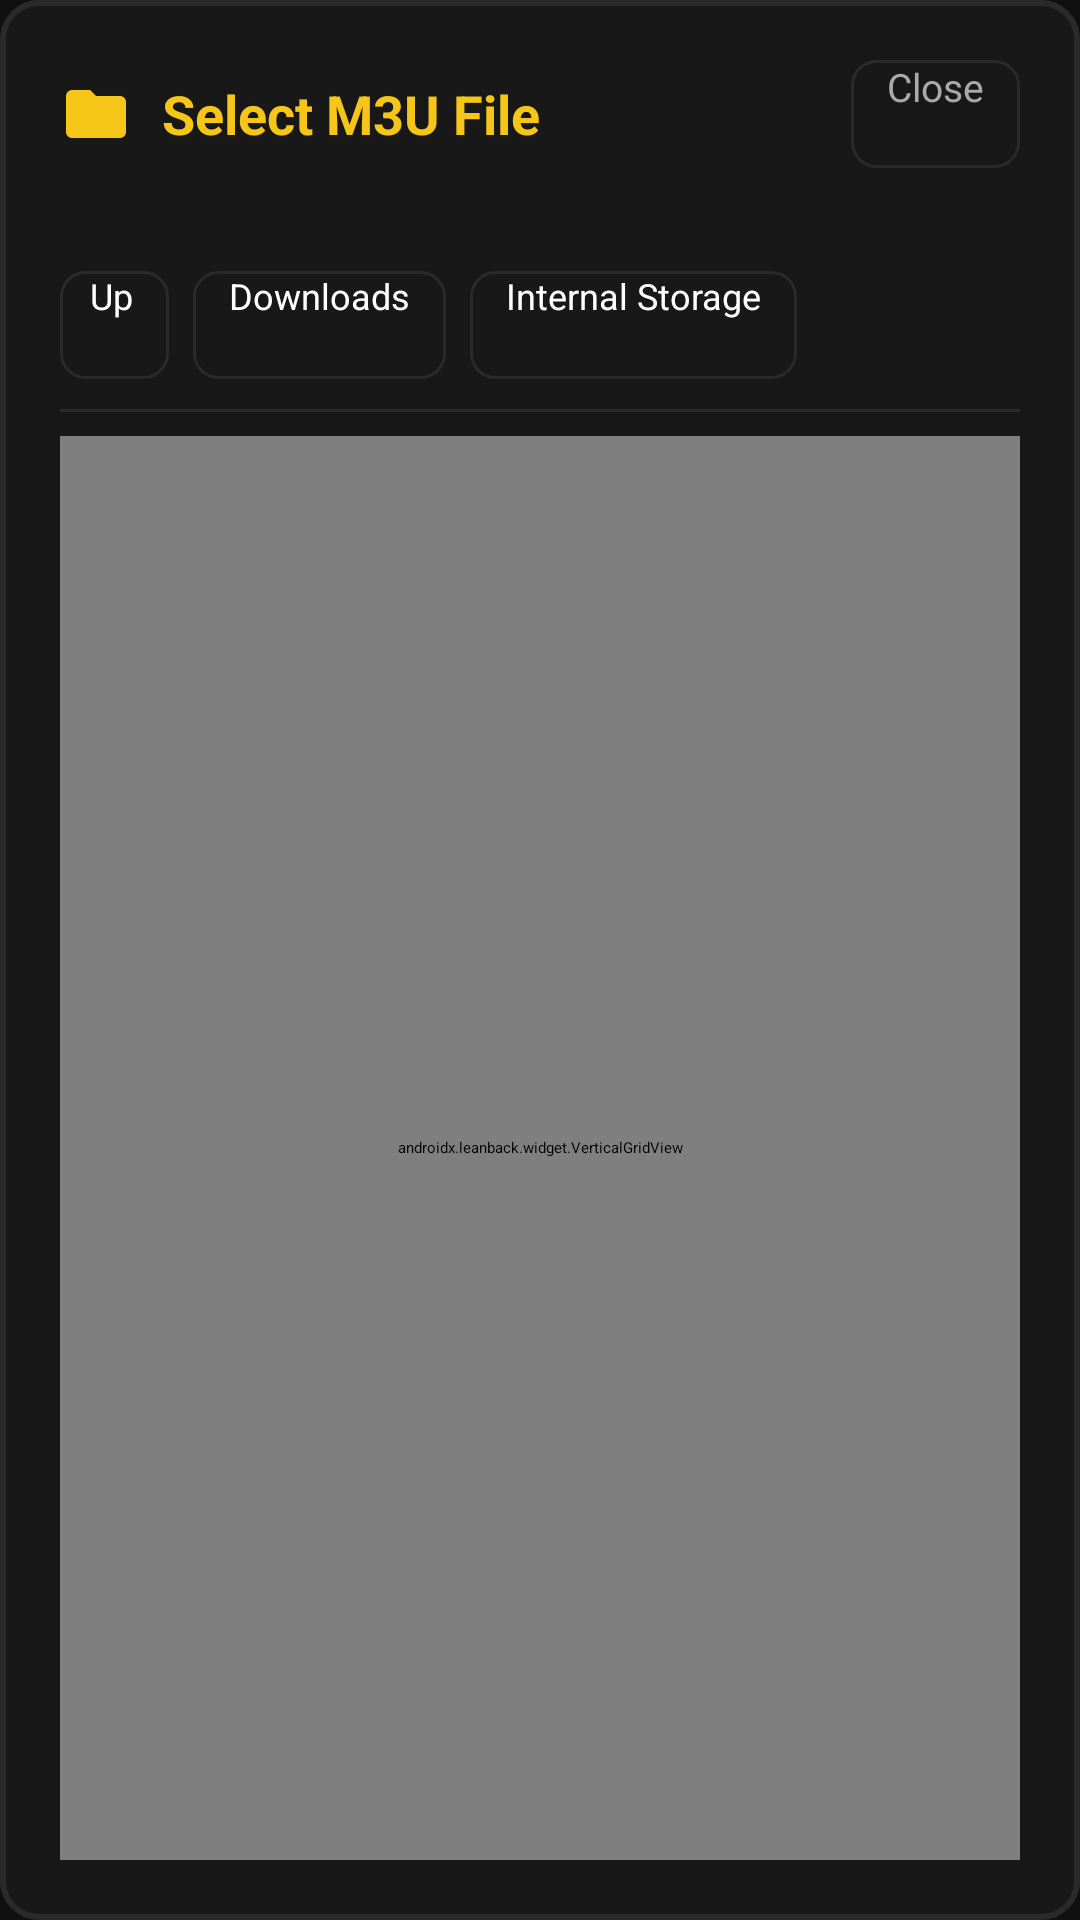

Screen size 1080w x 1920h. Icon name, then its box in pixels as (x1, y1, x2, y2):
Folder: (66, 90, 126, 138)
